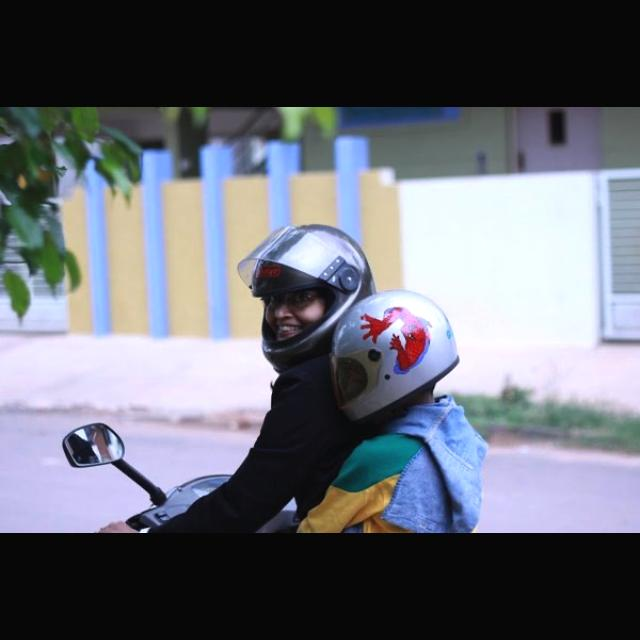With Helmet: (237, 221, 381, 369), (334, 295, 456, 423)
